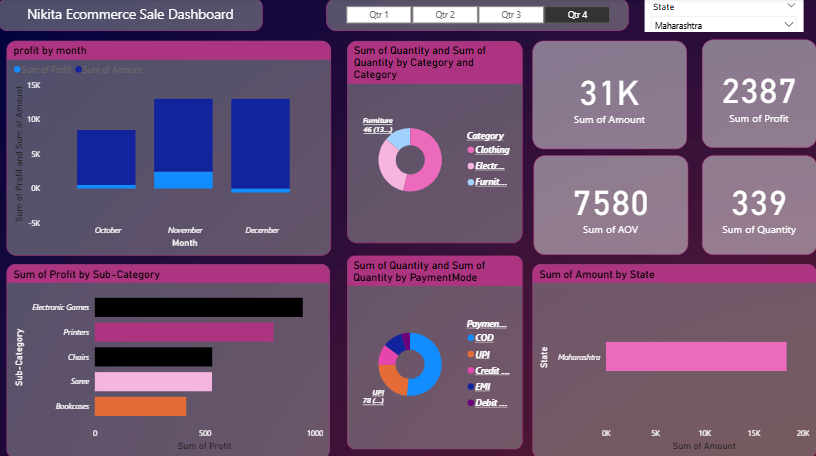

The page's visual inventory and layout, read from the dashboard file:
{"tool":"powerbi","page":{"name":"Page 1","canvas":[1280,720],"ordinal":0},"visuals":[{"type":"textbox","box":[0,0,414,52],"z":0},{"type":"columnChart","title":"profit by month","fields":{"Category":["Orders.Order Date.Variation.Date Hierarchy.Month"],"Y":["Details.Profit","Details.Profit","Details.Amount"]},"box":[13.4,87.7,507.4,314.7],"z":1000},{"type":"barChart","fields":{"Category":["Details.Sub-Category"],"Y":["Details.Profit"]},"box":[14,416,506,304],"z":2000},{"type":"donutChart","fields":{"Category":["Details.Category"],"Series":["Details.Category"],"Y":["Details.Quantity"]},"box":[546,90,274,294],"z":3000},{"type":"donutChart","fields":{"Category":["Details.PaymentMode"],"Y":["Details.Quantity"]},"box":[546,416,274,290],"z":4000},{"type":"card","fields":{"Values":["Details.Amount"]},"box":[836,66,242,170],"z":5000},{"type":"card","fields":{"Values":["Details.Quantity"]},"box":[1100,246,180,156],"z":6000},{"type":"card","fields":{"Values":["Details.Profit"]},"box":[1100,66,180,170],"z":7000},{"type":"card","fields":{"Values":["Details.AOV"]},"box":[838,246,242,156],"z":8000},{"type":"barChart","fields":{"Y":["Details.Amount"],"Category":["Orders.State"]},"box":[836,416,444,304],"z":9000},{"type":"slicer","fields":{"Values":["Orders.Order Date.Variation.Date Hierarchy.Quarter"]},"box":[513.1,0,473,51.5],"z":10000},{"type":"slicer","fields":{"Values":["Orders.State"]},"box":[1010,0,248,52],"z":11000}]}

Visuals, with their boxes in screenshot pixels (x1, y1, x2, y2), scaled from the page's 1280x720 canvas onto the 816x456 screenshot:
textbox: pyautogui.locateOnScreen(0, 0, 264, 33)
"profit by month" columnChart: pyautogui.locateOnScreen(9, 56, 332, 255)
barChart - Details.Sub-Category x Details.Profit: pyautogui.locateOnScreen(9, 263, 332, 455)
donutChart - Details.Category x Details.Category: pyautogui.locateOnScreen(348, 57, 523, 243)
donutChart - Details.PaymentMode x Details.Quantity: pyautogui.locateOnScreen(348, 263, 523, 447)
card - Details.Amount: pyautogui.locateOnScreen(533, 42, 687, 149)
card - Details.Quantity: pyautogui.locateOnScreen(701, 156, 815, 255)
card - Details.Profit: pyautogui.locateOnScreen(701, 42, 815, 149)
card - Details.AOV: pyautogui.locateOnScreen(534, 156, 688, 255)
barChart - Details.Amount x Orders.State: pyautogui.locateOnScreen(533, 263, 815, 455)
slicer - Orders.Order Date.Variation.Date Hierarchy.Quarter: pyautogui.locateOnScreen(327, 0, 629, 33)
slicer - Orders.State: pyautogui.locateOnScreen(644, 0, 802, 33)
